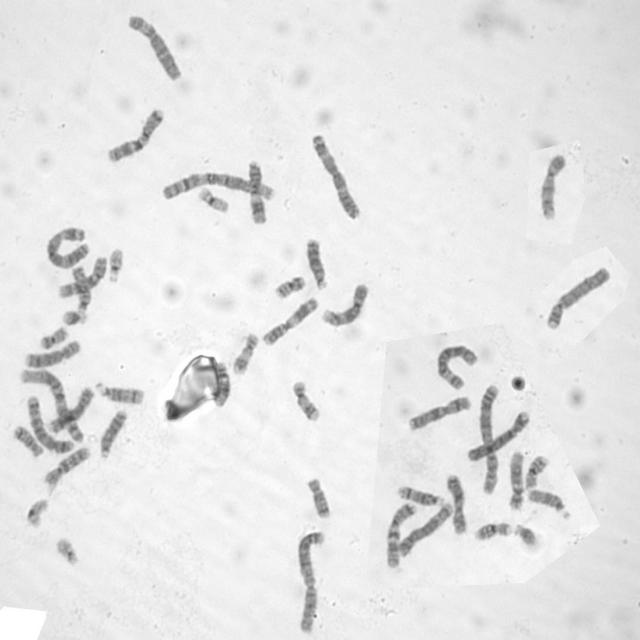A1: (17, 366, 87, 445), (161, 172, 277, 201)
A2: (294, 529, 328, 633), (475, 382, 500, 496)
A3: (310, 132, 364, 222), (46, 225, 90, 271)
B4: (544, 267, 611, 329), (465, 410, 533, 462)
B5: (398, 502, 455, 559), (25, 395, 76, 453)
C10: (56, 255, 108, 300), (44, 446, 92, 486)
C11: (261, 296, 320, 346), (244, 159, 268, 226)
C12: (506, 451, 527, 511), (212, 360, 230, 407)
C6: (126, 13, 184, 84), (432, 343, 481, 390)
C7: (105, 106, 166, 163), (385, 500, 418, 570)
C8: (48, 386, 96, 434), (23, 339, 83, 369)
C9: (321, 281, 370, 329), (538, 152, 569, 222)
D13: (98, 408, 130, 460), (304, 238, 327, 290)
D14: (92, 381, 146, 406), (396, 484, 444, 506)
D15: (527, 488, 572, 520), (70, 266, 92, 316)
E16: (524, 455, 551, 491), (474, 521, 513, 542)
E17: (293, 379, 322, 423), (232, 332, 259, 375)
E18: (304, 478, 334, 520), (12, 423, 44, 458)
F19: (23, 496, 50, 534), (196, 186, 230, 215)
F20: (273, 275, 306, 301), (40, 325, 69, 350)
G21: (514, 522, 539, 550), (60, 308, 89, 328)
G22: (53, 535, 84, 570), (108, 247, 124, 284)
X: (407, 396, 472, 432), (445, 472, 470, 538)
